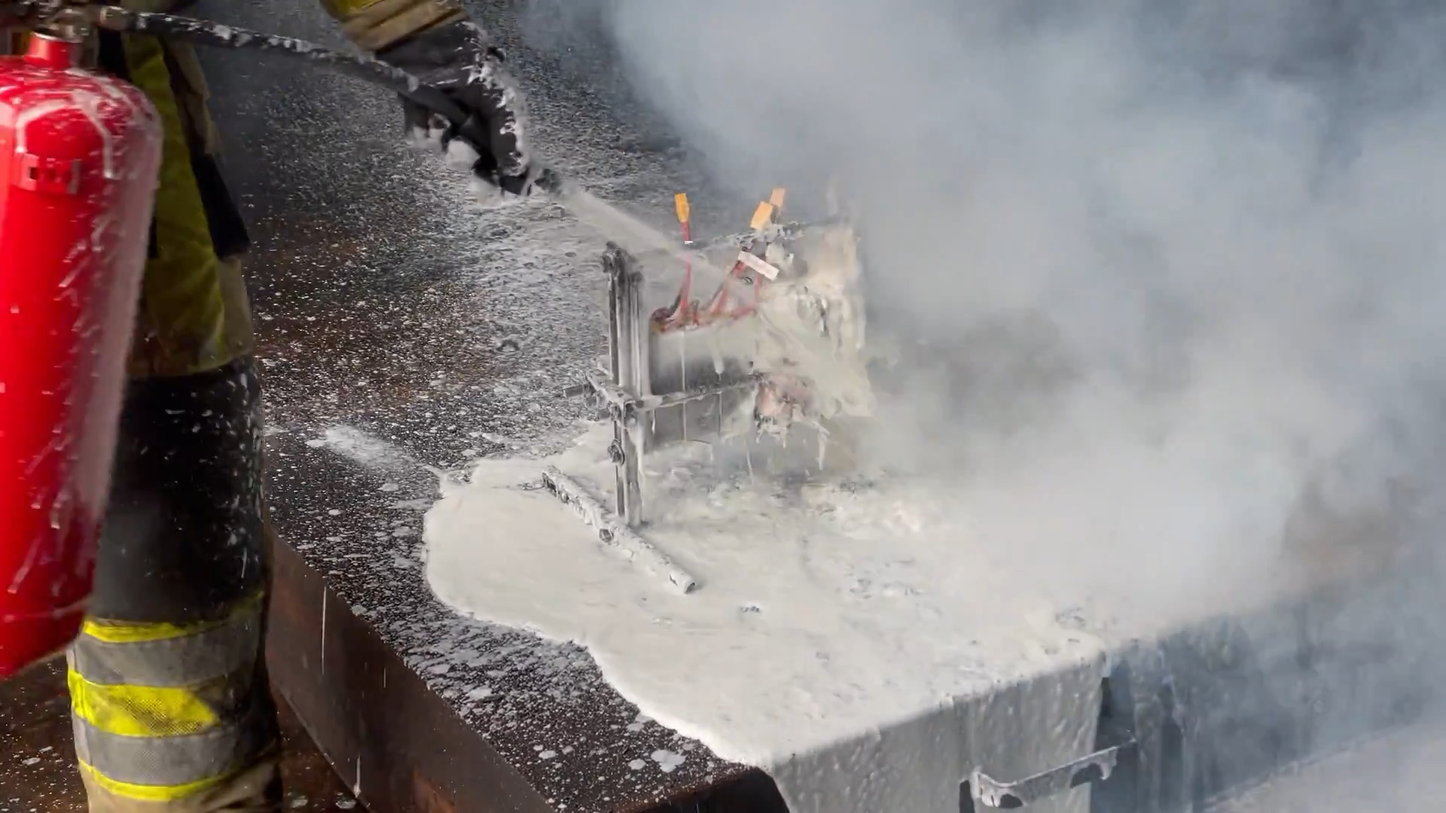smoke: (629, 128, 1442, 796)
